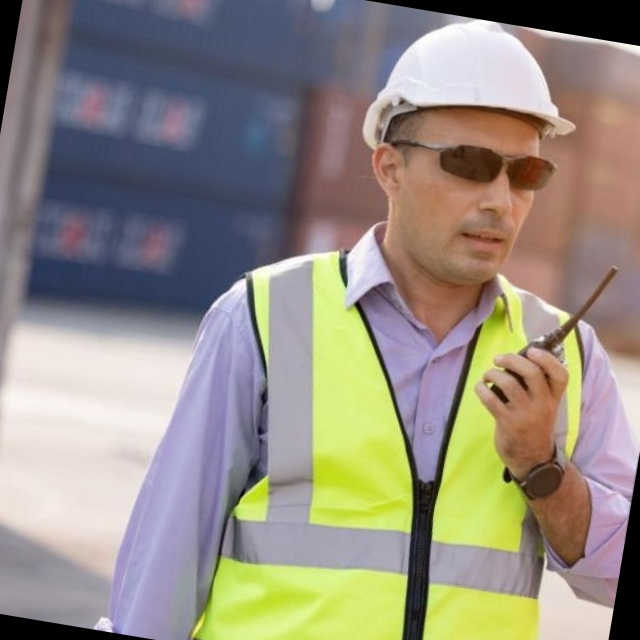Con_Casco: (338, 6, 589, 292)
Con_Chaleco: (182, 241, 609, 640)
